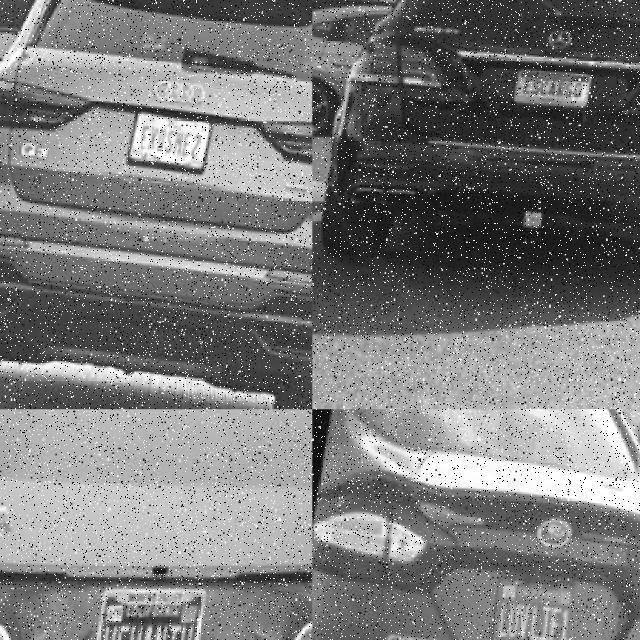LicensePlate: (91, 575, 211, 640), (489, 567, 584, 640), (127, 110, 216, 178), (515, 71, 593, 110)
